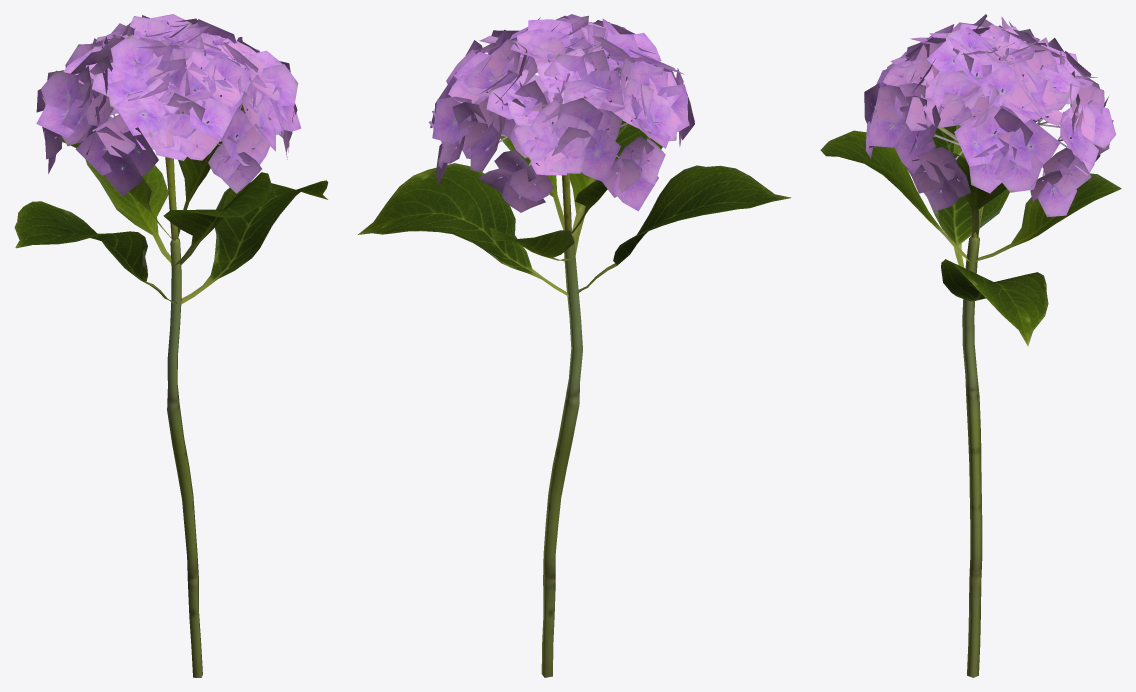
The model's file is Hydrangea_OG_normal_magenta.glb.
The picture shows the model from 3 angles, left to right: view 1: azimuth 30°, elevation 25°; view 2: azimuth 150°, elevation 25°; view 3: azimuth 270°, elevation 25°; orthographic projection. The views are drawn at different scales.
Parts seen in each view (by area): view 1: Hydrangea; view 2: Hydrangea; view 3: Hydrangea.
Part boxes in pixels (x1=…): Hydrangea: x1=14, y1=14, x2=328, y2=677; Hydrangea: x1=358, y1=14, x2=791, y2=677; Hydrangea: x1=820, y1=14, x2=1121, y2=677.
Size of the model in its own units: 1.38 by 2.31 by 1.
1 material, 1 textured.
